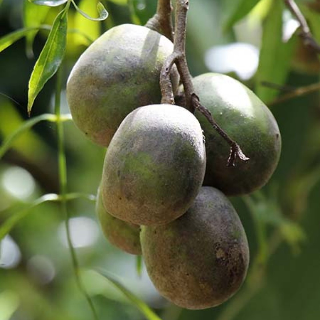coc: (99, 101, 206, 228)
